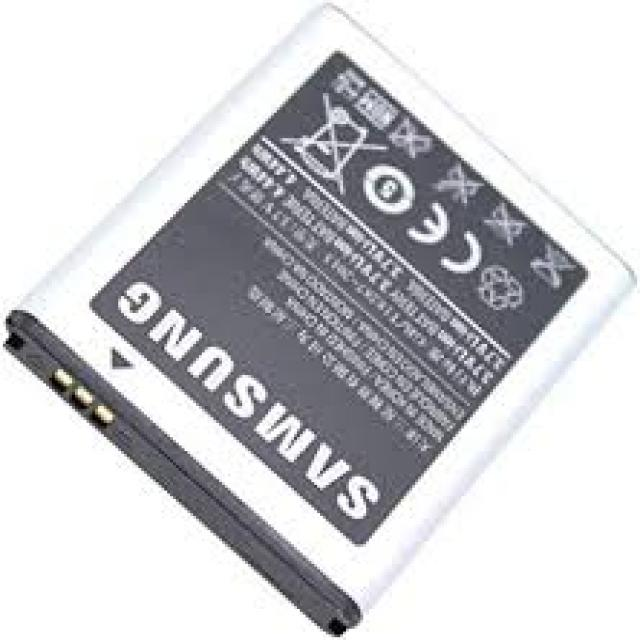non-organic waste: (5, 6, 635, 638)
